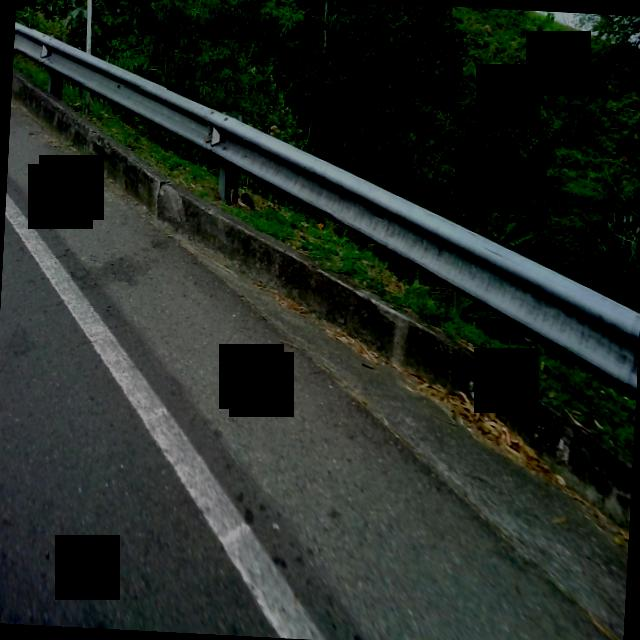DITCH: (0, 29, 640, 640), (0, 80, 640, 640)
